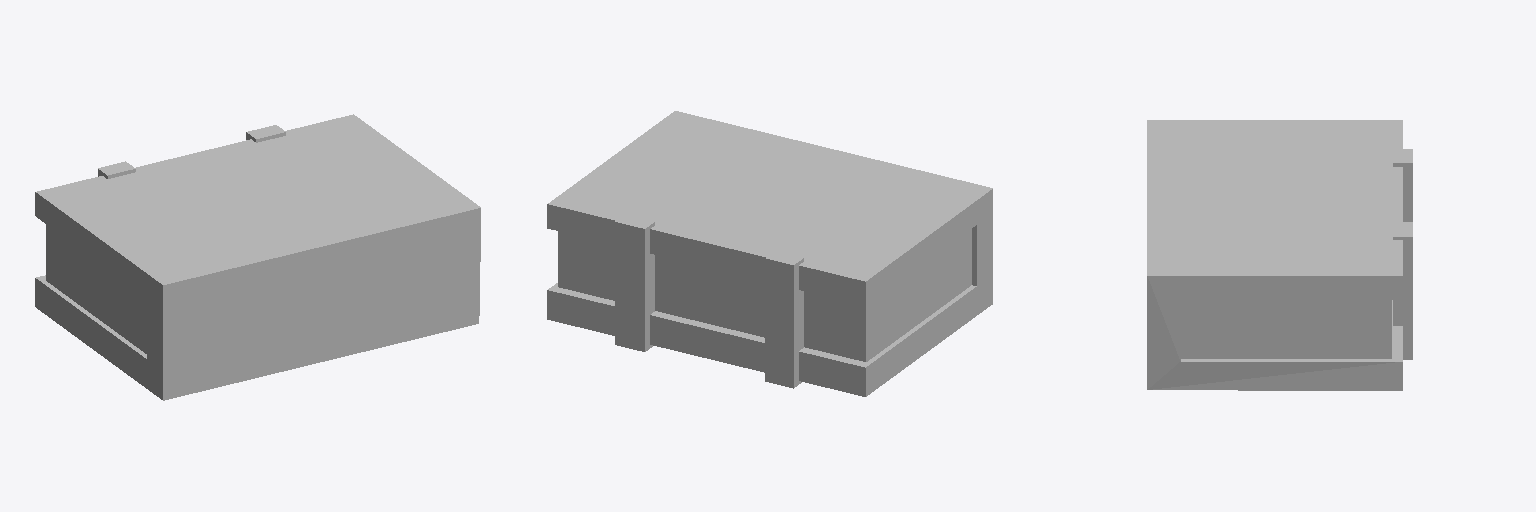
File: uldamanbook02.obj
The picture shows the model from 3 angles: view 1: azimuth 30°, elevation 25°; view 2: azimuth 150°, elevation 25°; view 3: azimuth 270°, elevation 25°; orthographic projection.
Visible parts, largest first — view 1: object 1; view 2: object 1; view 3: object 1.
Part boxes in pixels (left/top/right/bottom): object 1: left=35, top=114, right=480, bottom=400; object 1: left=547, top=111, right=992, bottom=396; object 1: left=1147, top=120, right=1412, bottom=390.
Size of the model in its own units: 2.42 by 0.8971 by 1.75.